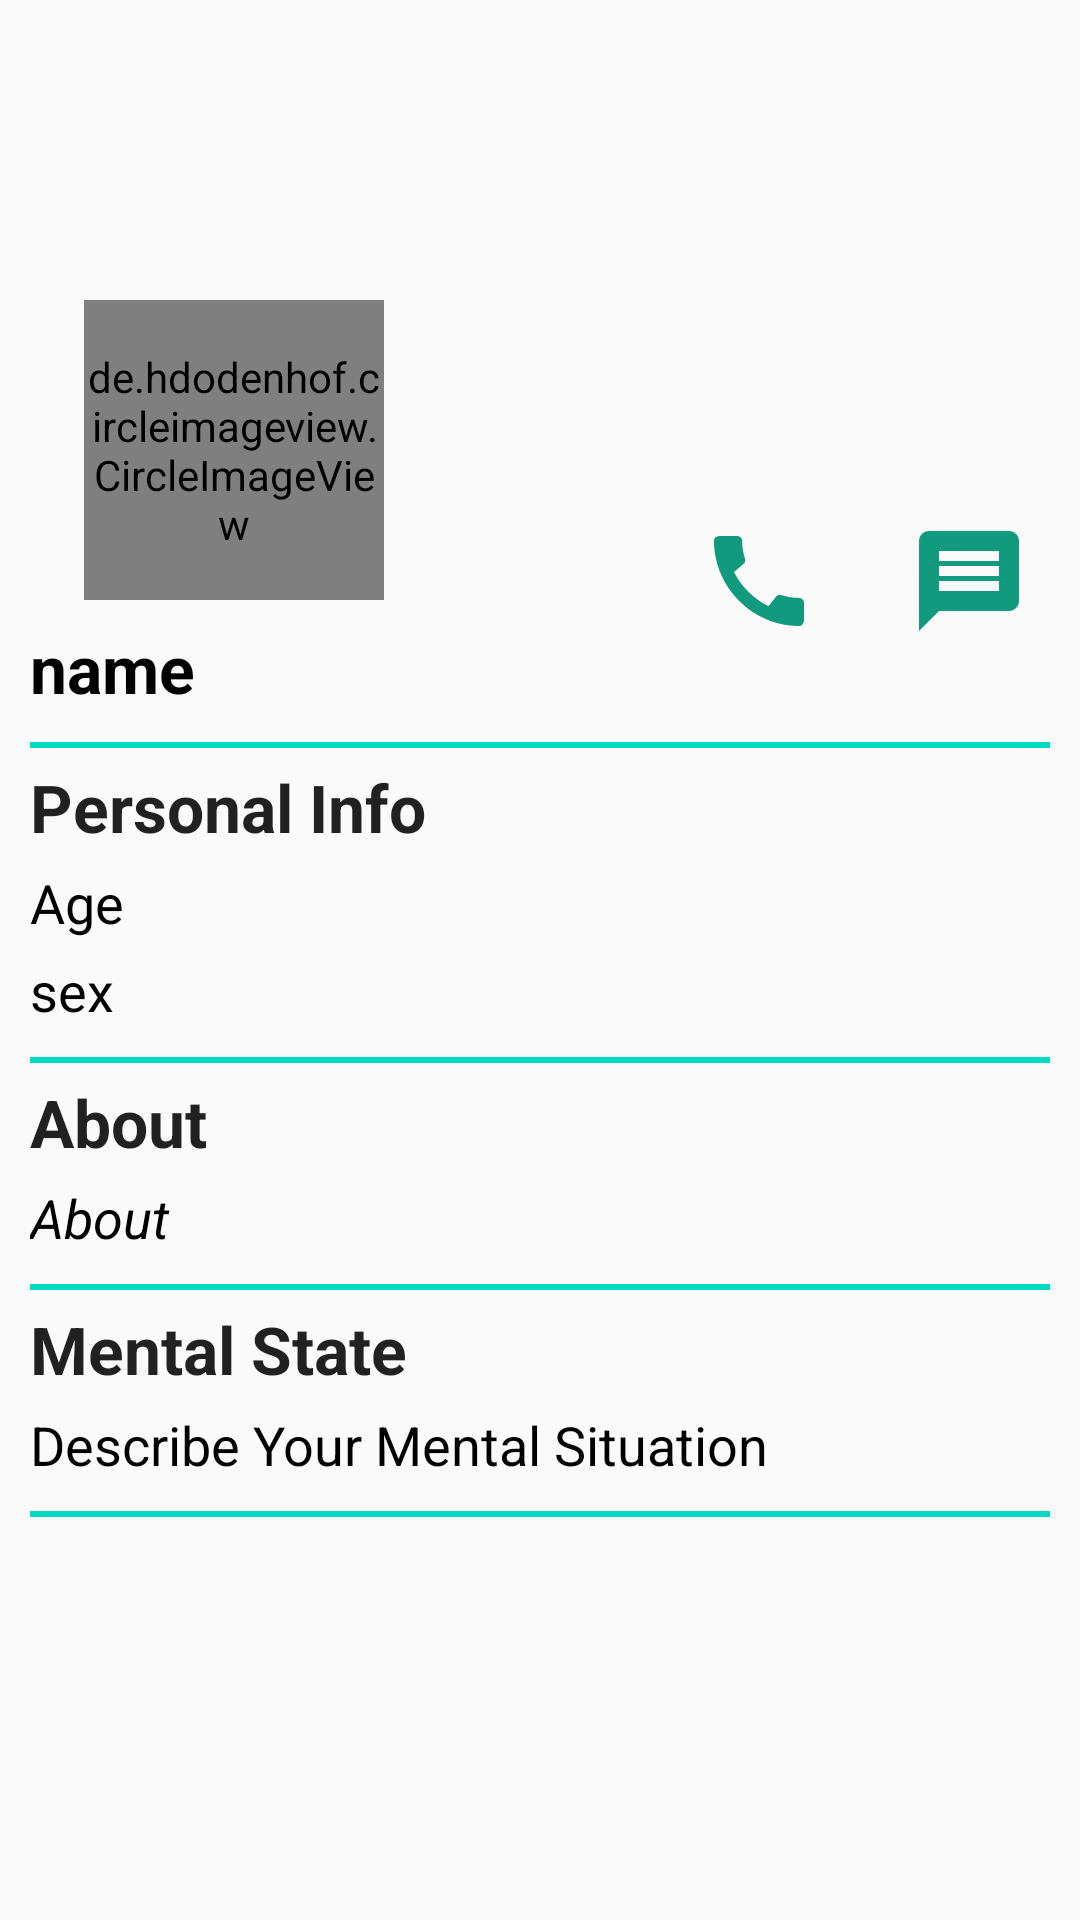

Where icons sit on this 1080w x 1920h app screen, as bbox=[x1, y1, x2, y2]:
Call: bbox=[714, 536, 804, 626]
message: bbox=[919, 531, 1019, 631]
